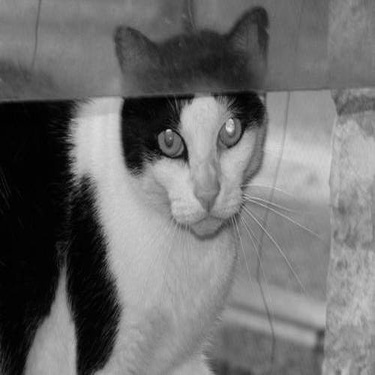cat: (1, 5, 276, 373)
